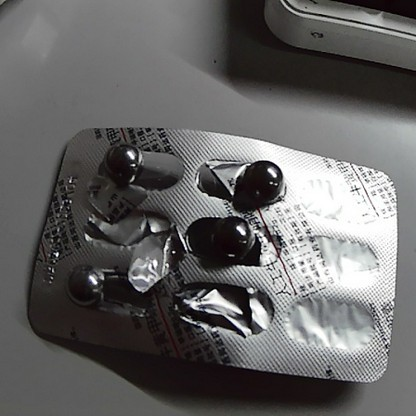ironball: (206, 211, 258, 257), (233, 159, 288, 200), (100, 136, 145, 180)
